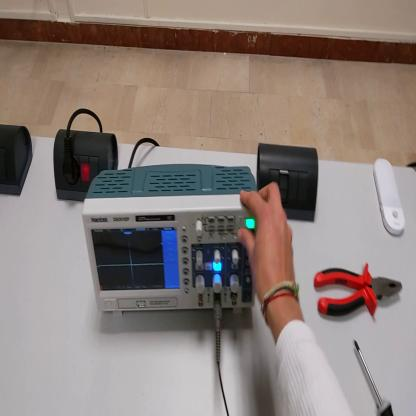hand: (238, 180, 298, 307)
oscilloscope: (82, 162, 257, 320)
pliers: (314, 264, 405, 325)
screwdriver-: (356, 341, 395, 415)
socket: (51, 128, 121, 201), (2, 121, 36, 198)
